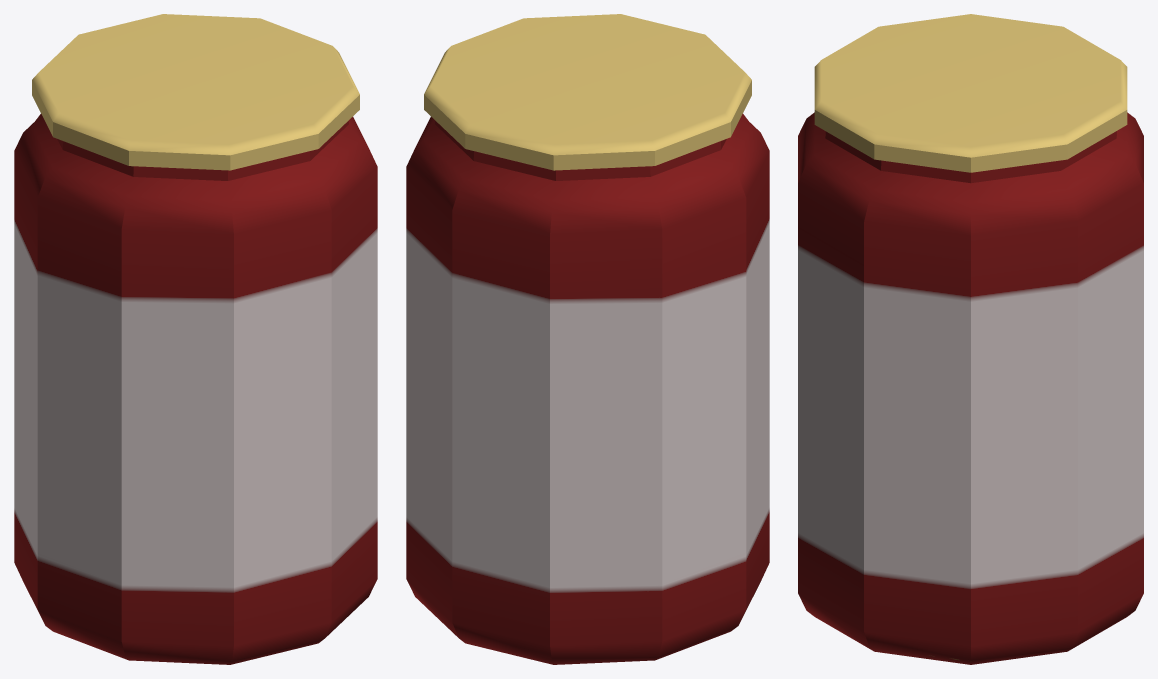
File: Jam.fbx
3 renders of one model, left to right at view 1: azimuth 30°, elevation 25°; view 2: azimuth 150°, elevation 25°; view 3: azimuth 270°, elevation 25°, orthographic.
Visible parts, largest first — view 1: Jar; view 2: Jar; view 3: Jar.
Part boxes in pixels (x1,y1,x2,y2): Jar: (14,14,377,664); Jar: (406,14,769,664); Jar: (798,14,1143,664).
Size of the model in its own units: 2.18 by 3.4 by 2.07.
